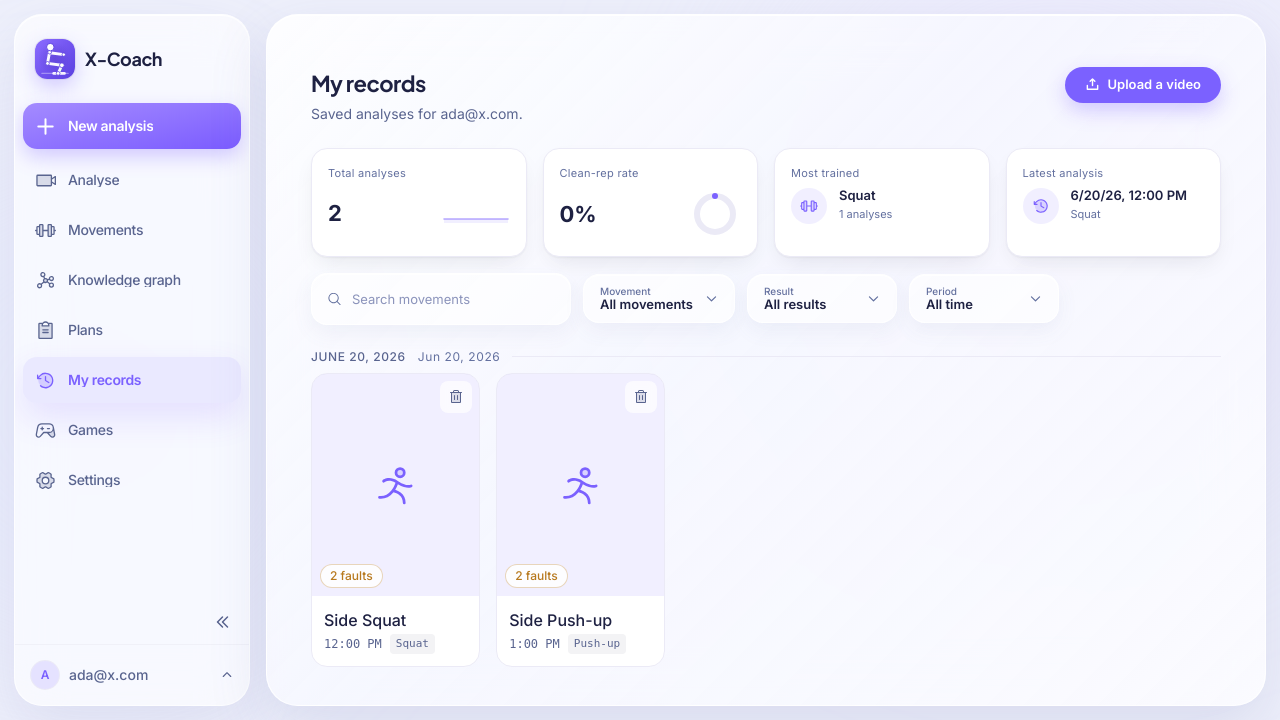
it: History › names the clicked row in the confirm dialog
The width and height of the screenshot is (1280, 720).
Click the 2nd button named "Delete this record".
click(641, 396)  # box [625, 380, 657, 412]
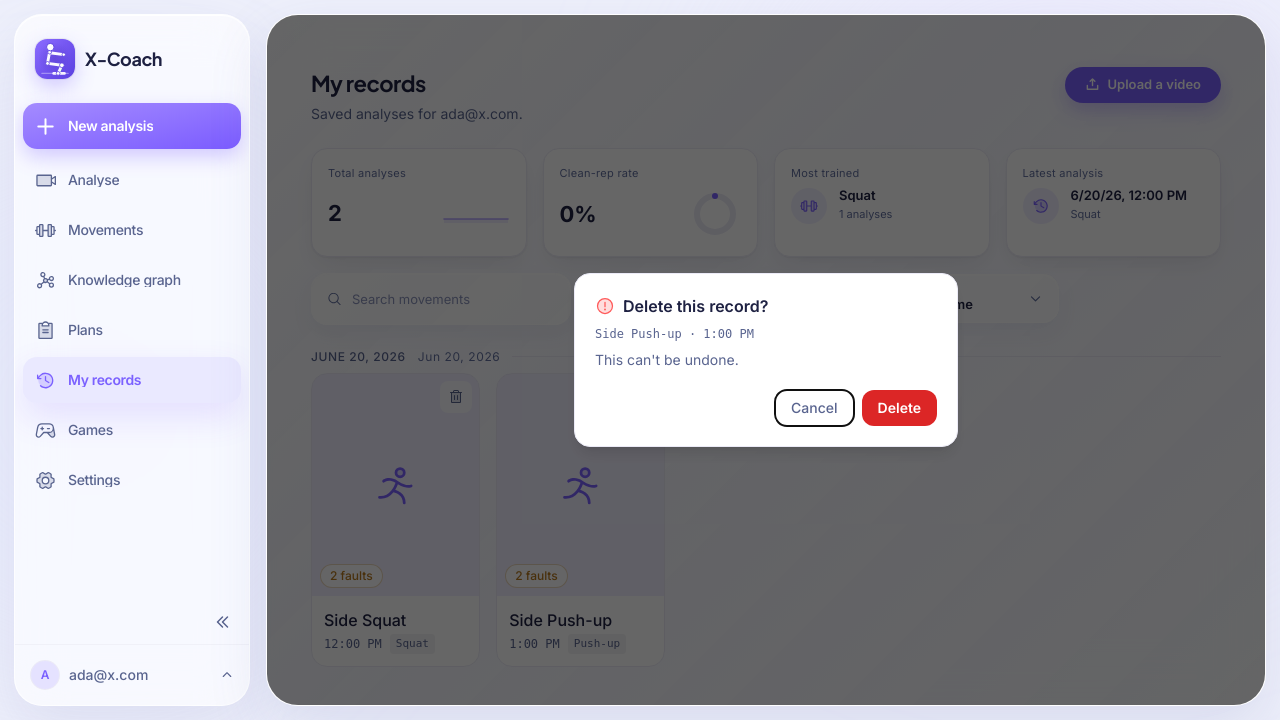
Expected: the text "Side Push-up · 1:00 PM" is shown, [595, 327, 754, 341]
